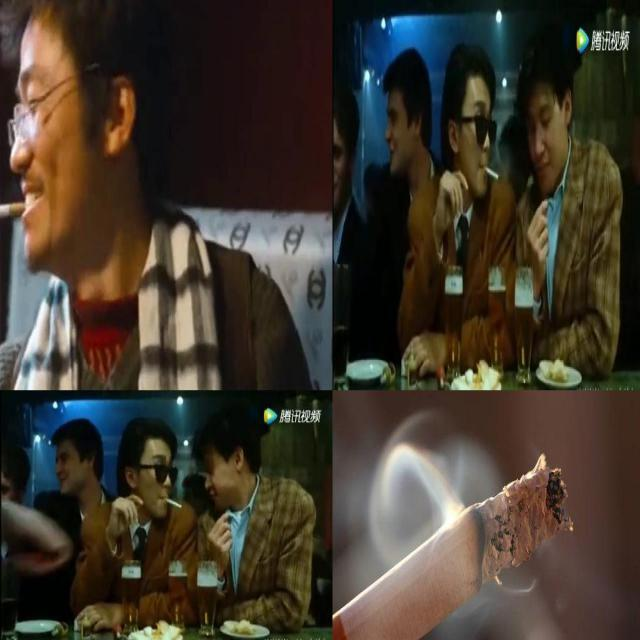cigarette: (332, 452, 574, 640), (0, 199, 27, 223), (481, 156, 499, 184), (164, 496, 184, 509)
